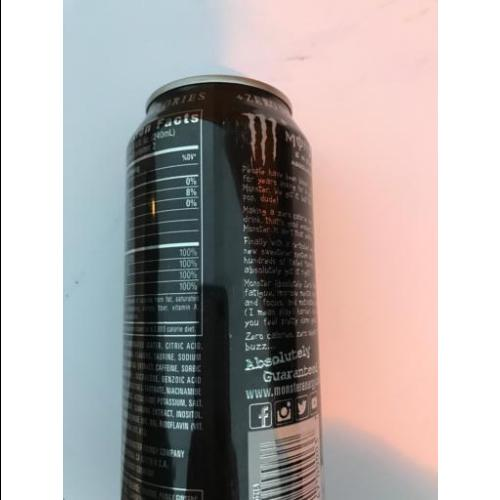metal: (122, 75, 324, 499)
